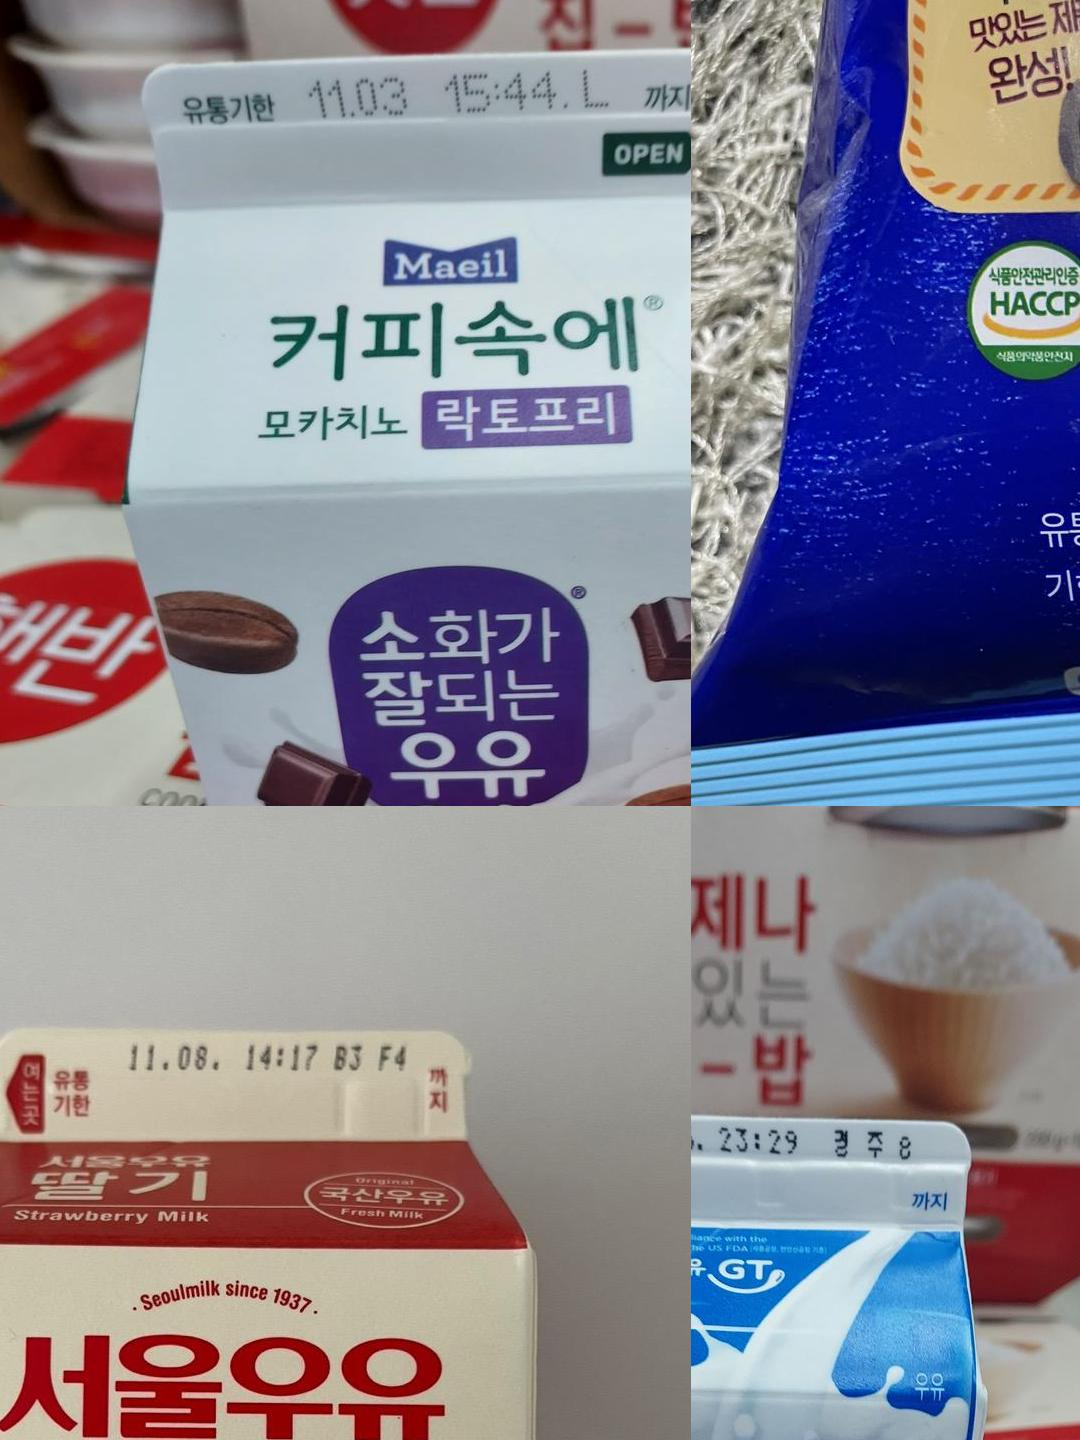milk: (143, 57, 691, 204), (0, 1023, 463, 1138), (691, 1108, 970, 1226)
